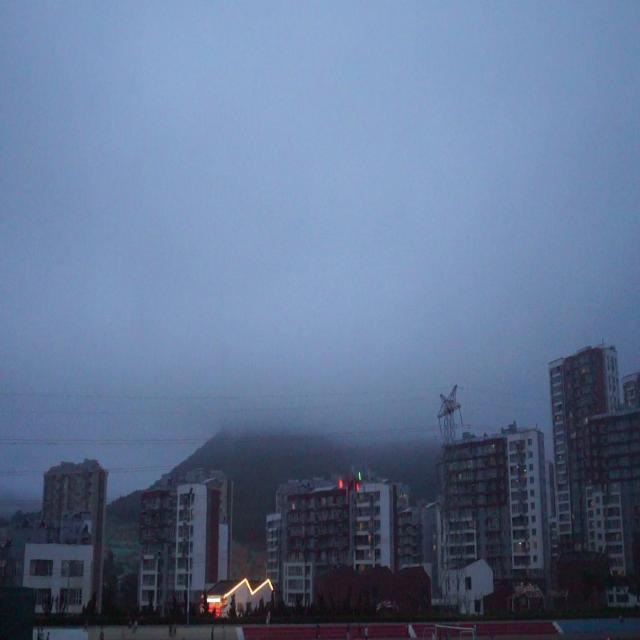UAV: (338, 471, 361, 502)
